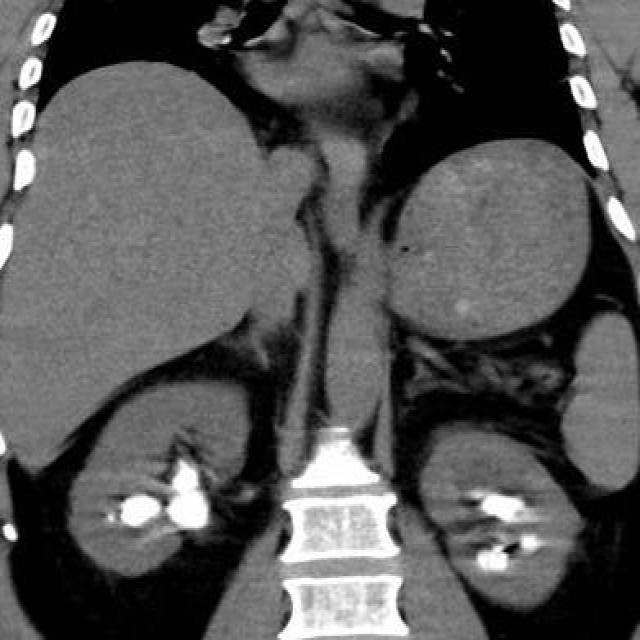Tas_Var: (160, 491, 231, 531), (110, 493, 164, 531), (476, 493, 538, 525), (166, 467, 210, 493), (474, 546, 510, 570), (516, 531, 542, 557), (461, 483, 485, 503), (100, 510, 118, 526), (488, 541, 509, 553), (177, 457, 188, 467)
